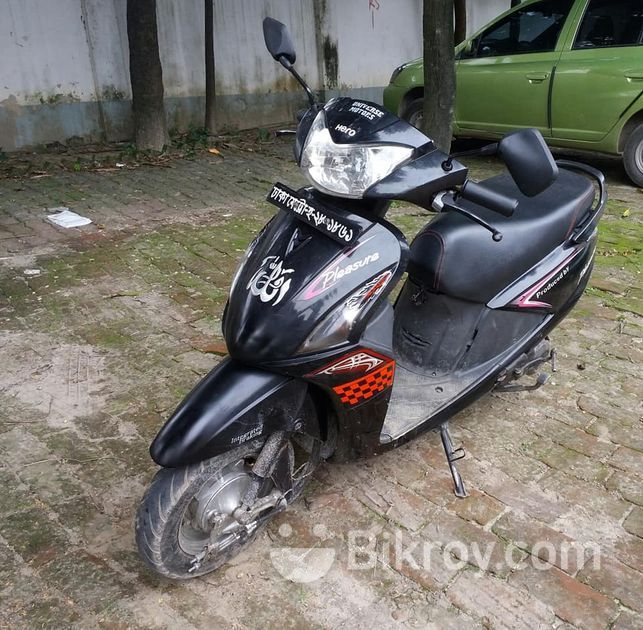car: (382, 1, 643, 185)
scooter: (135, 18, 604, 582)
